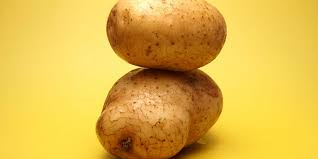potato: (92, 62, 230, 156), (86, 2, 242, 75)
